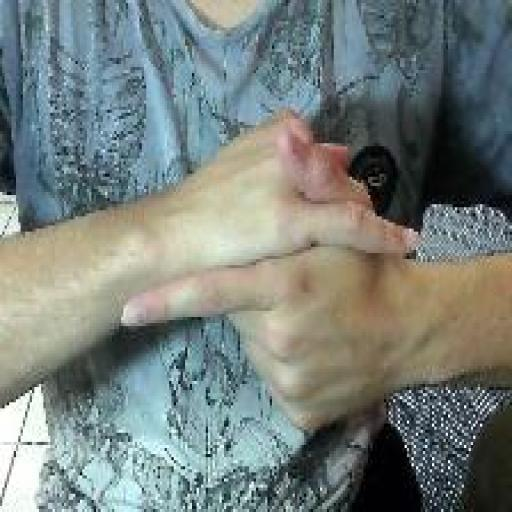U -hare-: (118, 105, 424, 444)
